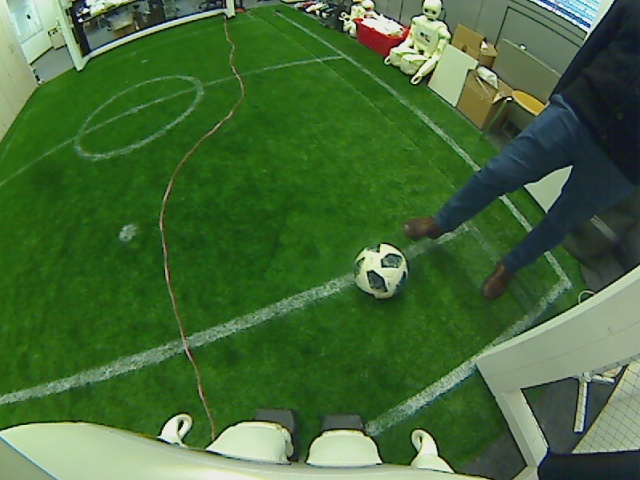ball: (350, 241, 409, 298)
